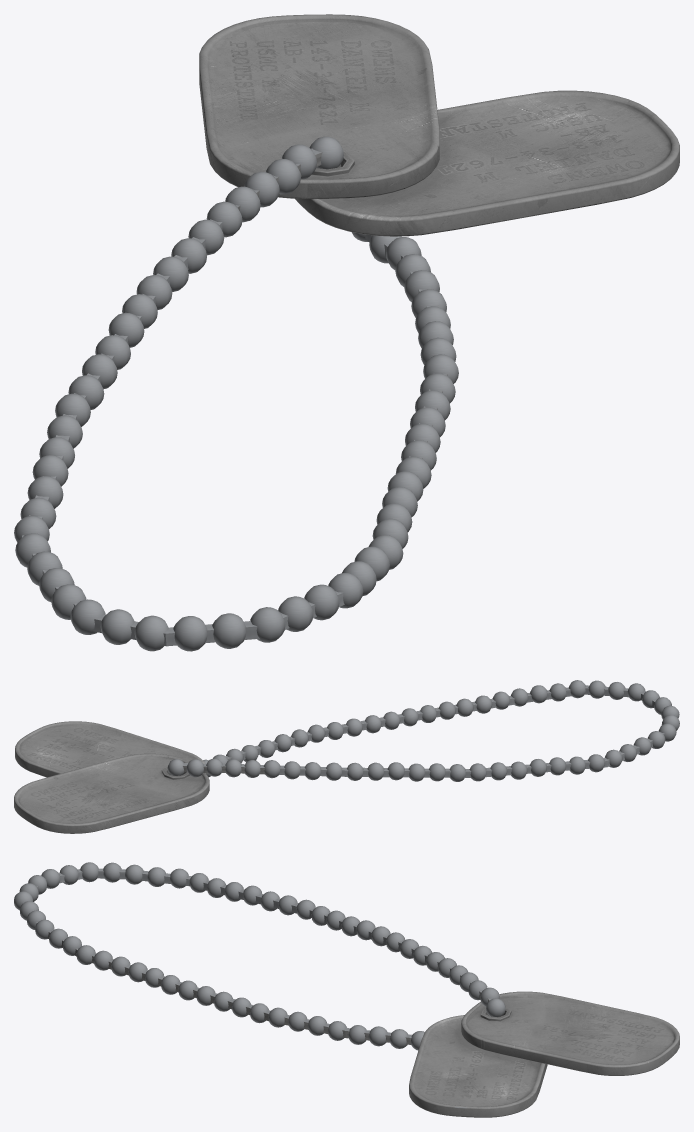
3 views of the same model, one above another, from view 1: azimuth 30°, elevation 25°; view 2: azimuth 150°, elevation 25°; view 3: azimuth 270°, elevation 25° (orthographic). The views are drawn at different scales.
Visible parts, largest first — view 1: balls_low, tag1_low, tag2_low, chaom_low; view 2: balls_low, tag1_low, tag2_low, chaom_low; view 3: balls_low, tag1_low, tag2_low, chaom_low.
Part boxes in pixels (left/top/right/bottom): balls_low: left=14, top=136, right=458, bottom=651; tag1_low: left=199, top=14, right=439, bottom=198; tag2_low: left=295, top=90, right=679, bottom=236; chaom_low: left=22, top=148, right=447, bottom=646; balls_low: left=167, top=680, right=679, bottom=781; tag1_low: left=14, top=753, right=209, bottom=833; tag2_low: left=15, top=721, right=207, bottom=777; chaom_low: left=169, top=685, right=672, bottom=777; balls_low: left=14, top=862, right=505, bottom=1050; tag1_low: left=461, top=991, right=679, bottom=1075; tag2_low: left=409, top=1015, right=547, bottom=1117; chaom_low: left=29, top=868, right=499, bottom=1044.
Size of the model in its own units: 654 by 64.14 by 725.
1 material, 1 textured.
